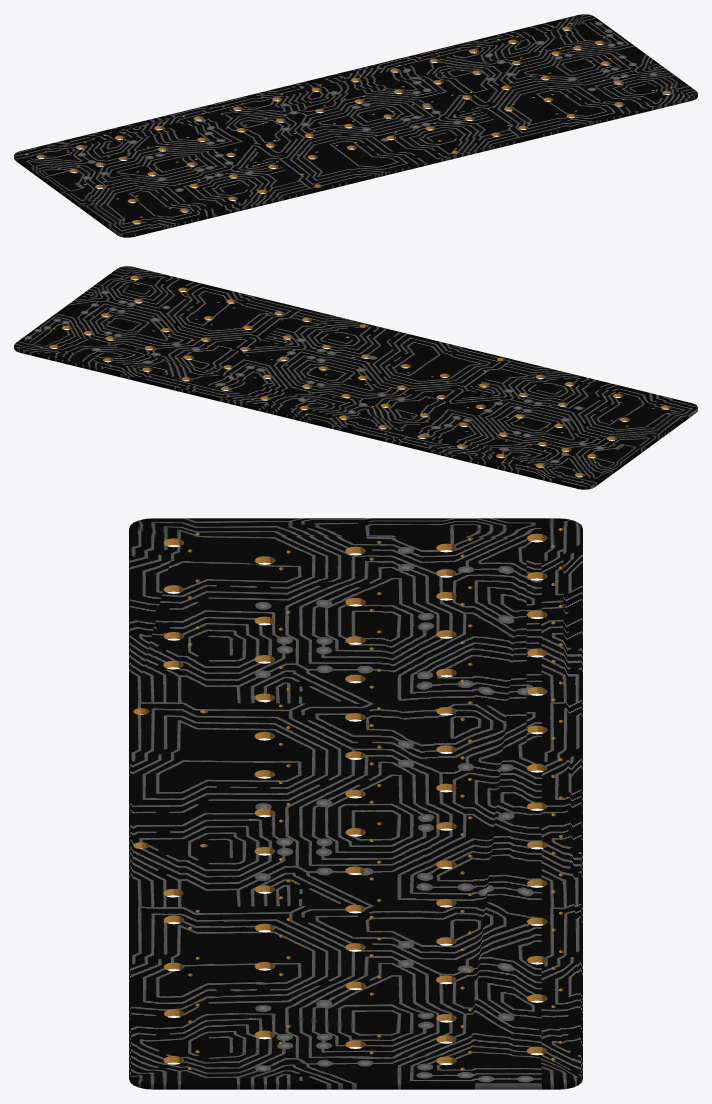
Rendered from PCB.glb.
3 renders of one model, top to bottom at view 1: azimuth 30°, elevation 25°; view 2: azimuth 150°, elevation 25°; view 3: azimuth 270°, elevation 25°, orthographic. The views are drawn at different scales.
Visible parts, largest first — view 1: PCB; view 2: PCB; view 3: PCB.
Boxes of the visible parts, <box> form: PCB: <box>14,14,697,237</box>; PCB: <box>14,266,697,489</box>; PCB: <box>129,518,582,1089</box>.
Bounding box in the file's own units: 0.28 × 0.0015 × 0.095.
2 materials, 1 textured.
